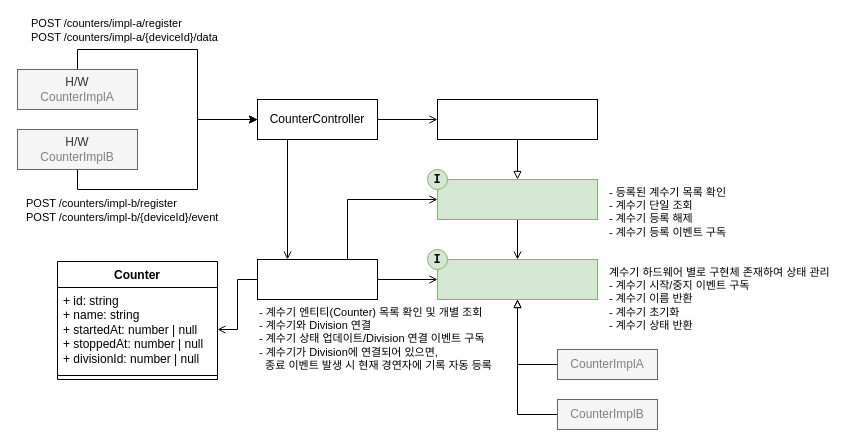
Some shapes in this 855 by 447 pixel diagram are drawn without their labels. The shapes that lost their labels are listed below. From the top down, each one's box as (x1, y1, x2, y2) in pixels, then its label:
(436, 98, 598, 140): CounterDeviceManager
(436, 178, 598, 220): CounterDeviceRegister
(256, 258, 378, 300): CounterService
(436, 258, 598, 300): CounterDevice
